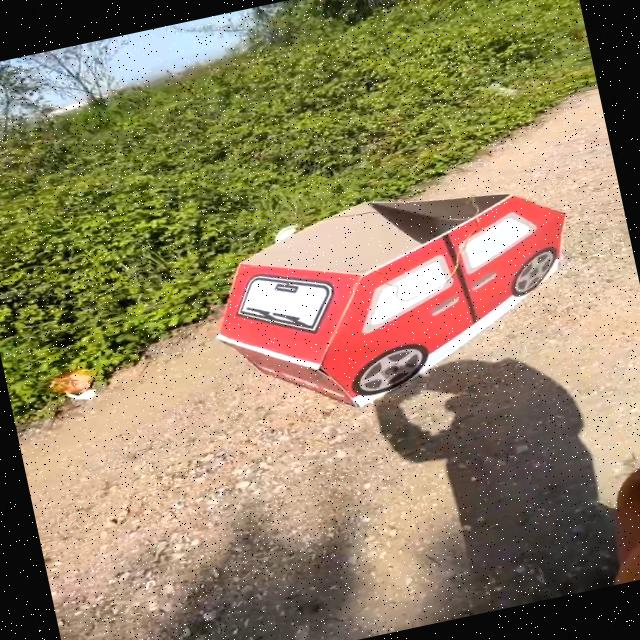red_car: (172, 131, 613, 442)
